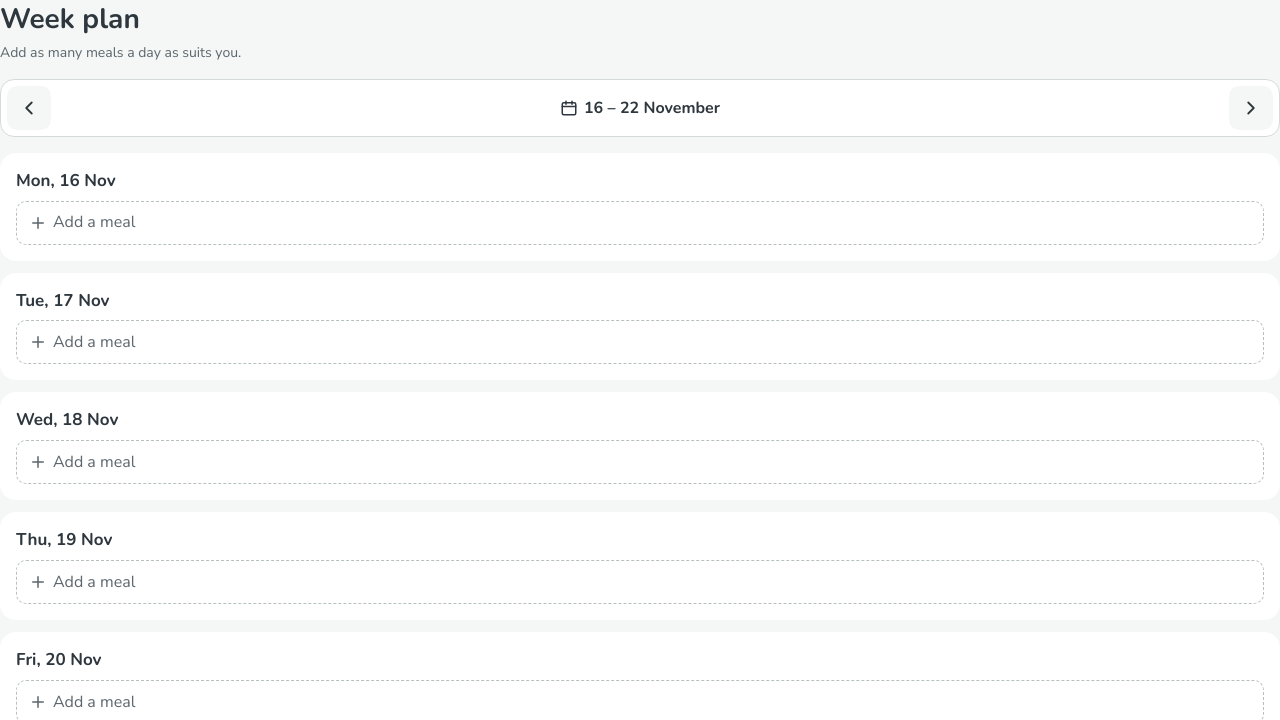
Test: Calendar picker › Today goes straight back to the current week
Click the button with aria-label "Choose a week, 16 – 22 November" at [640, 108], box x1=552 y1=86 x2=728 y2=130
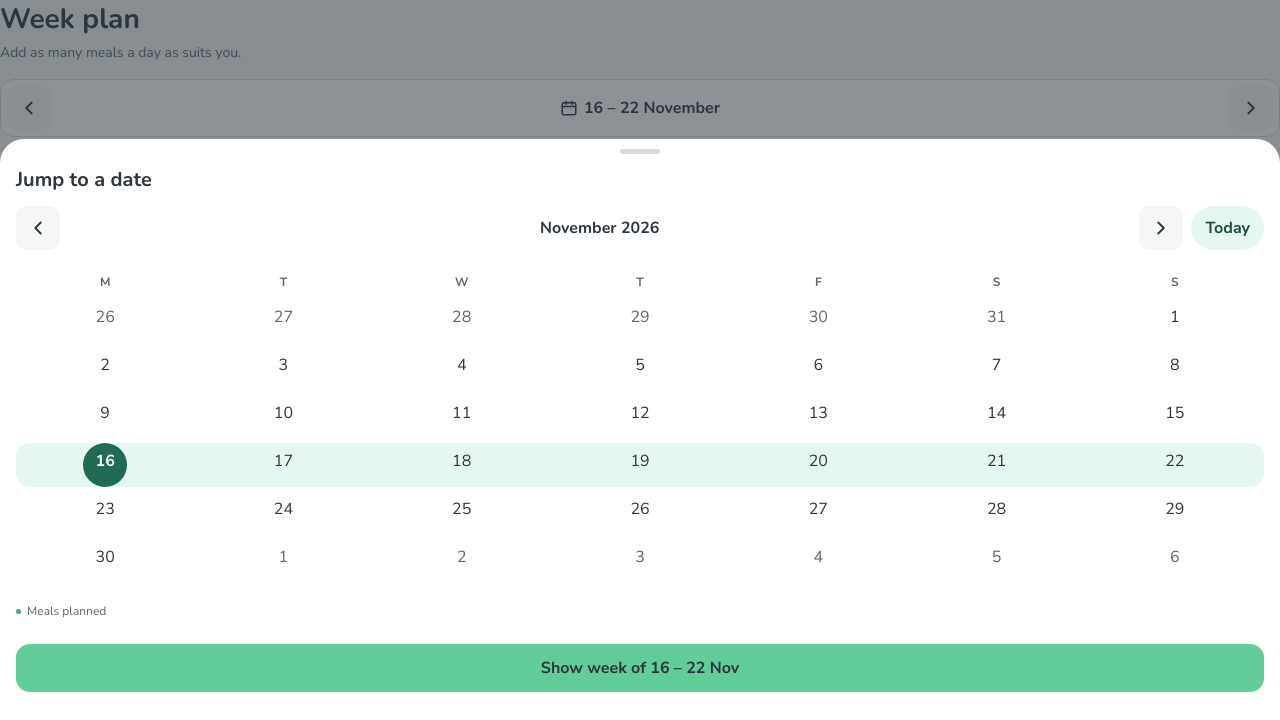
Click the button "Today" at [1228, 228], box x1=1191 y1=206 x2=1264 y2=250
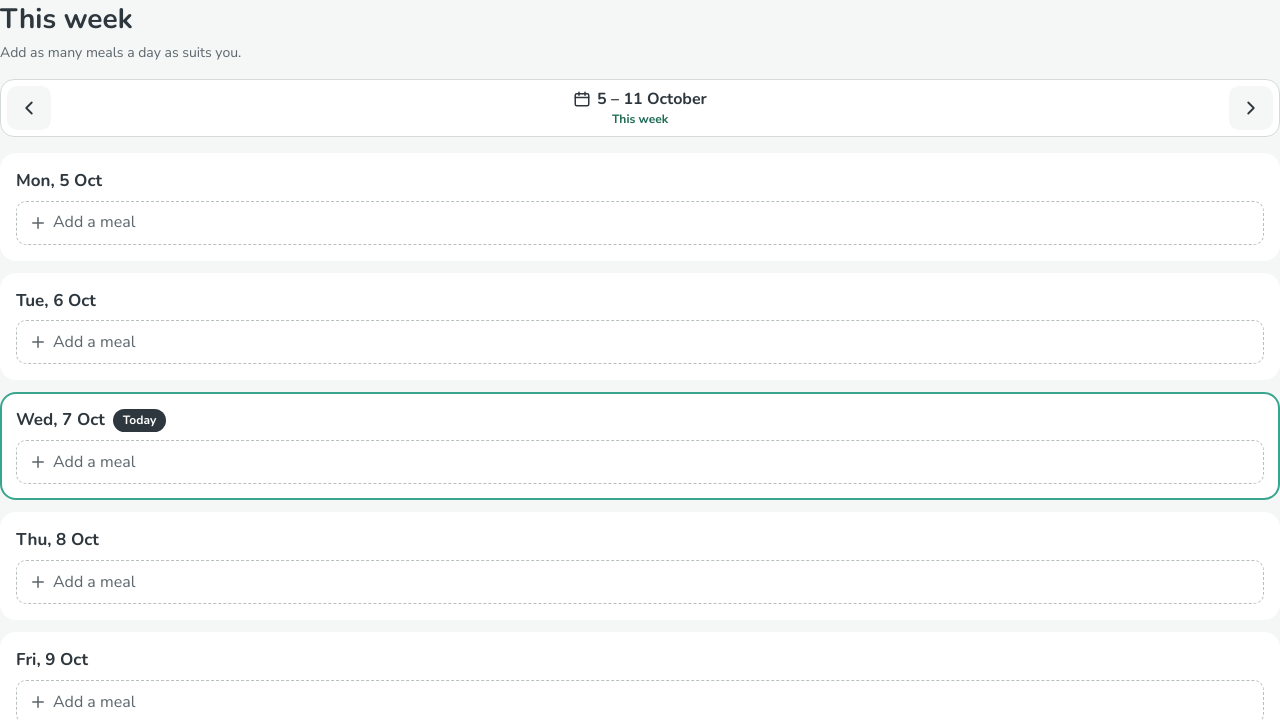
Now the text "5 – 11 October" is shown, box x1=573 y1=88 x2=707 y2=111
